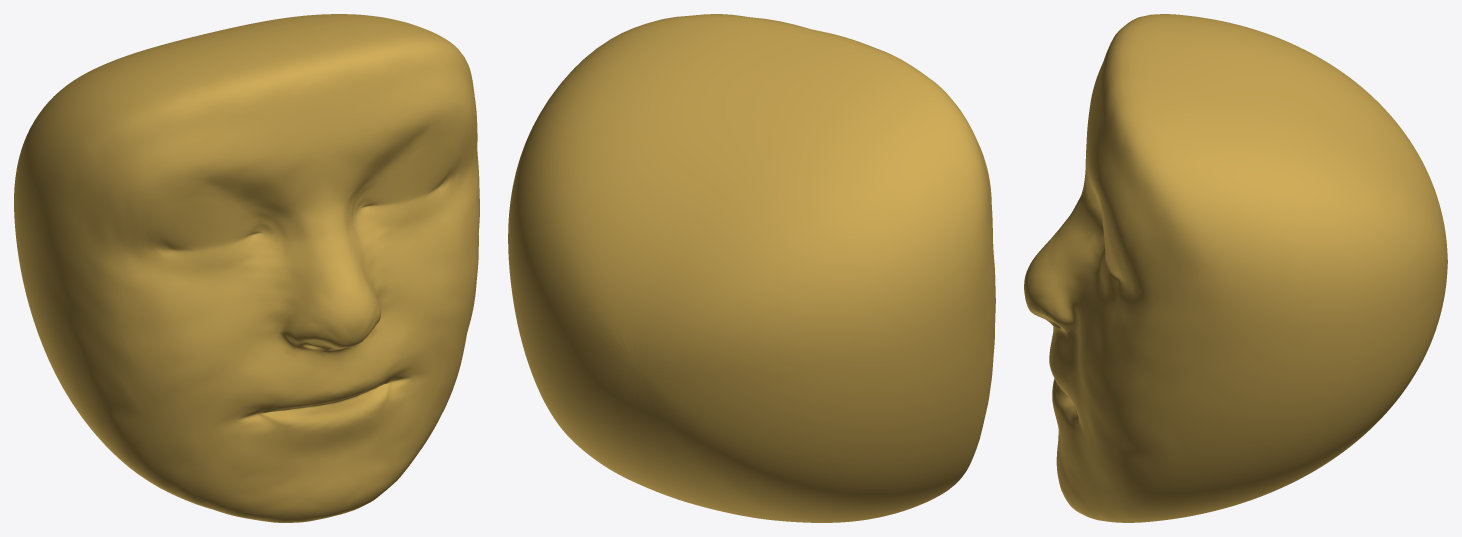
Rendered from closed-face-scaffold.glb.
3 views of the same model, side by side, from view 1: azimuth 30°, elevation 25°; view 2: azimuth 150°, elevation 25°; view 3: azimuth 270°, elevation 25° (orthographic). The views are drawn at different scales.
Visible parts, largest first — view 1: Original-reference-face-scaffold; view 2: Original-reference-face-scaffold; view 3: Original-reference-face-scaffold.
Boxes of the visible parts, x1,y1,x2,y2 form: Original-reference-face-scaffold: [14, 14, 479, 522]; Original-reference-face-scaffold: [508, 14, 995, 522]; Original-reference-face-scaffold: [1024, 14, 1447, 522].
Size of the model in its own units: 0.6548 by 0.6564 by 0.5814.
